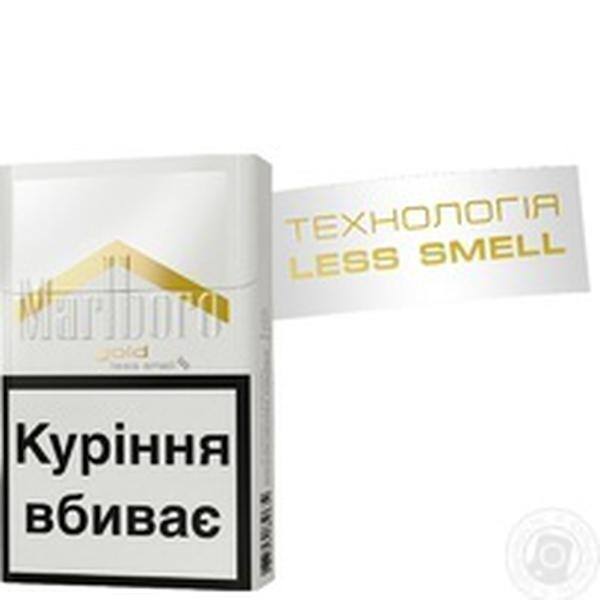marlboro_gold: (2, 166, 252, 587)
